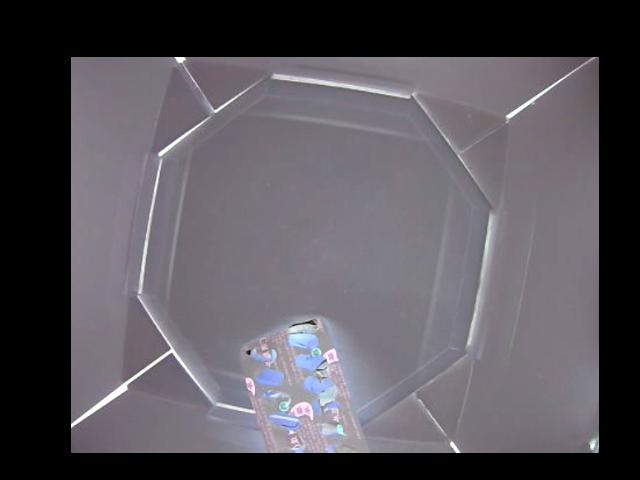Medicine: (240, 316, 366, 453)
